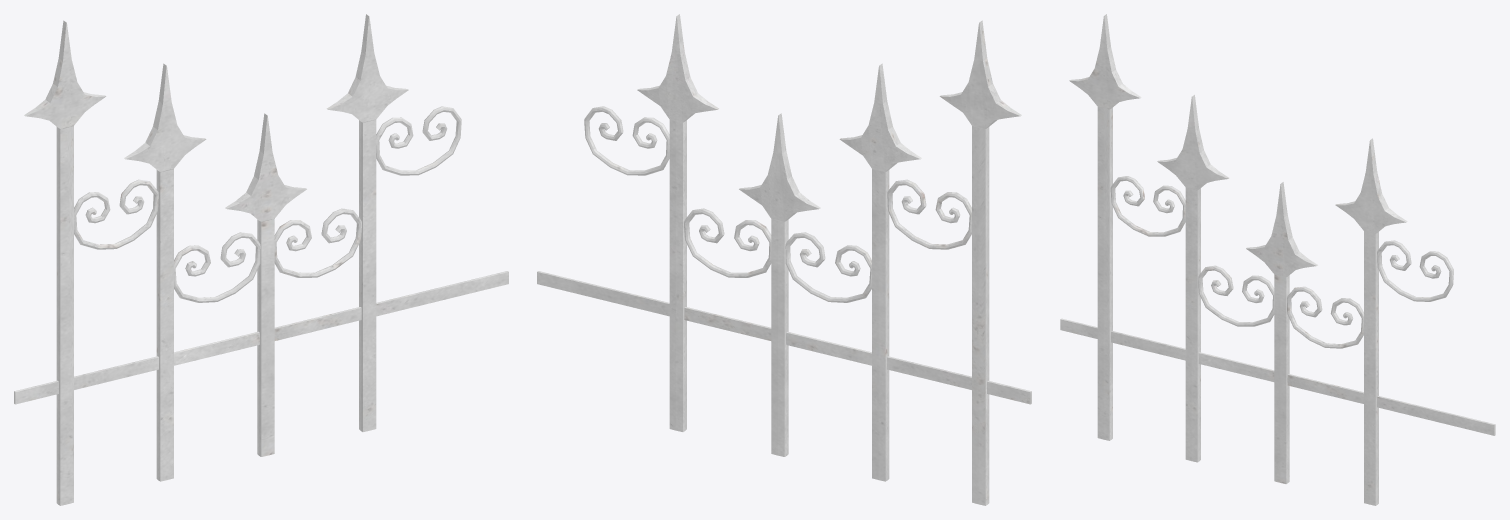
File: aitaus.fbx
3 renders of one model, left to right at view 1: azimuth 30°, elevation 25°; view 2: azimuth 150°, elevation 25°; view 3: azimuth 330°, elevation 25°, orthographic. The views are drawn at different scales.
Parts seen in each view (by area): view 1: Line013; view 2: Line013; view 3: Line013.
Boxes of the visible parts, left/top/right/bottom form: Line013: left=14, top=14, right=508, bottom=505; Line013: left=537, top=14, right=1031, bottom=505; Line013: left=1060, top=14, right=1495, bottom=505.
Bounding box in the file's own units: 76.51 × 71.34 × 1.33.
